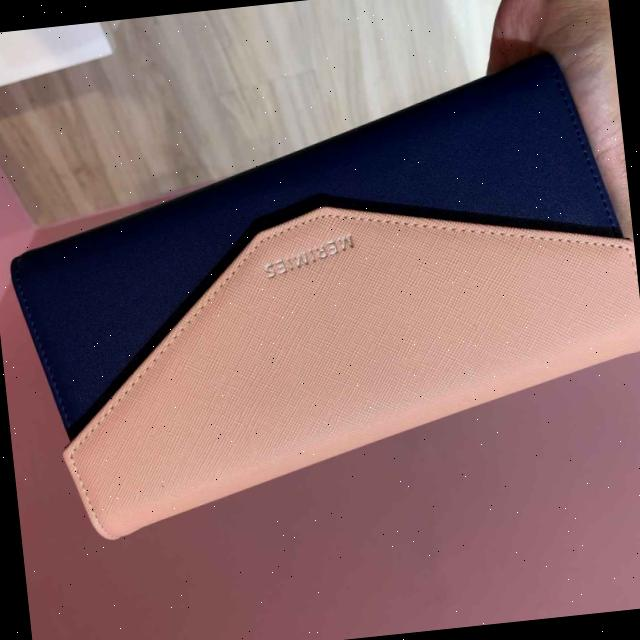Handbag: (0, 45, 640, 547)
